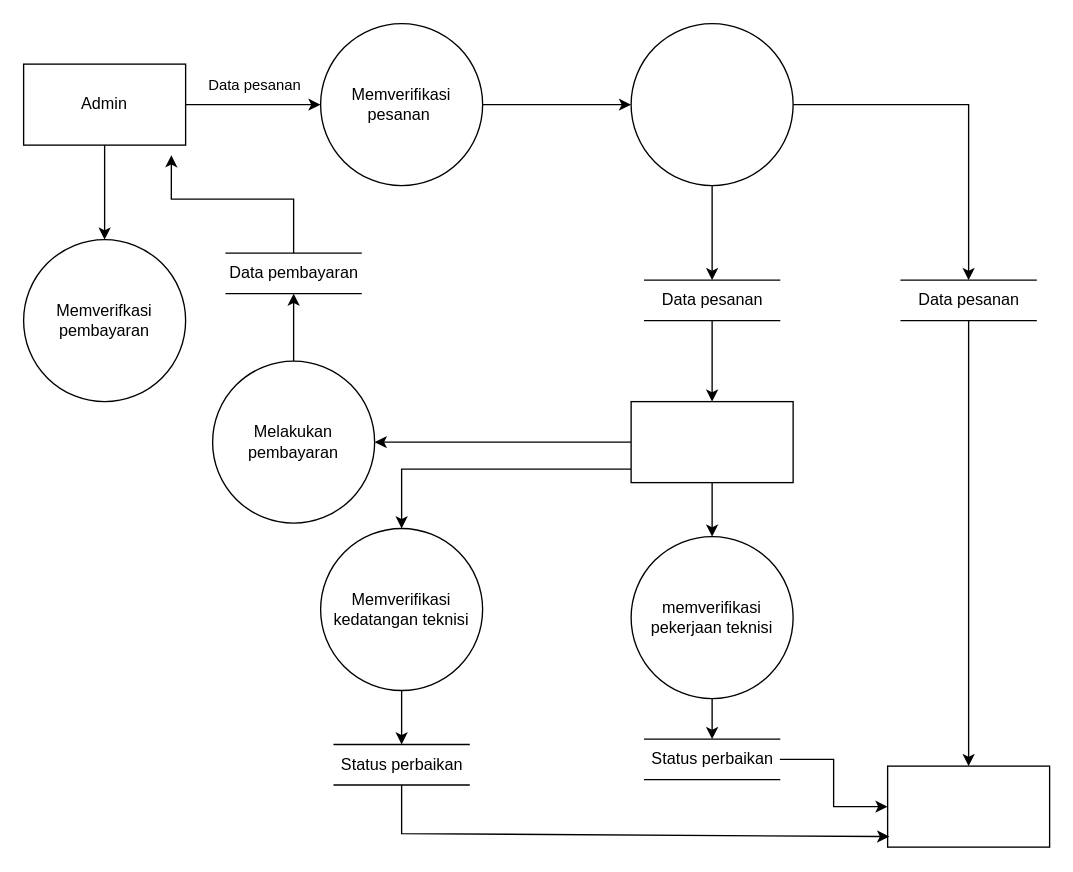
This 1073x872 diagram has some shape labels left out. Each missing label, with the centre of its shape:
Konsumen: (711,441)
Memilih teknisi: (711,104)
Teknisi: (968,806)
